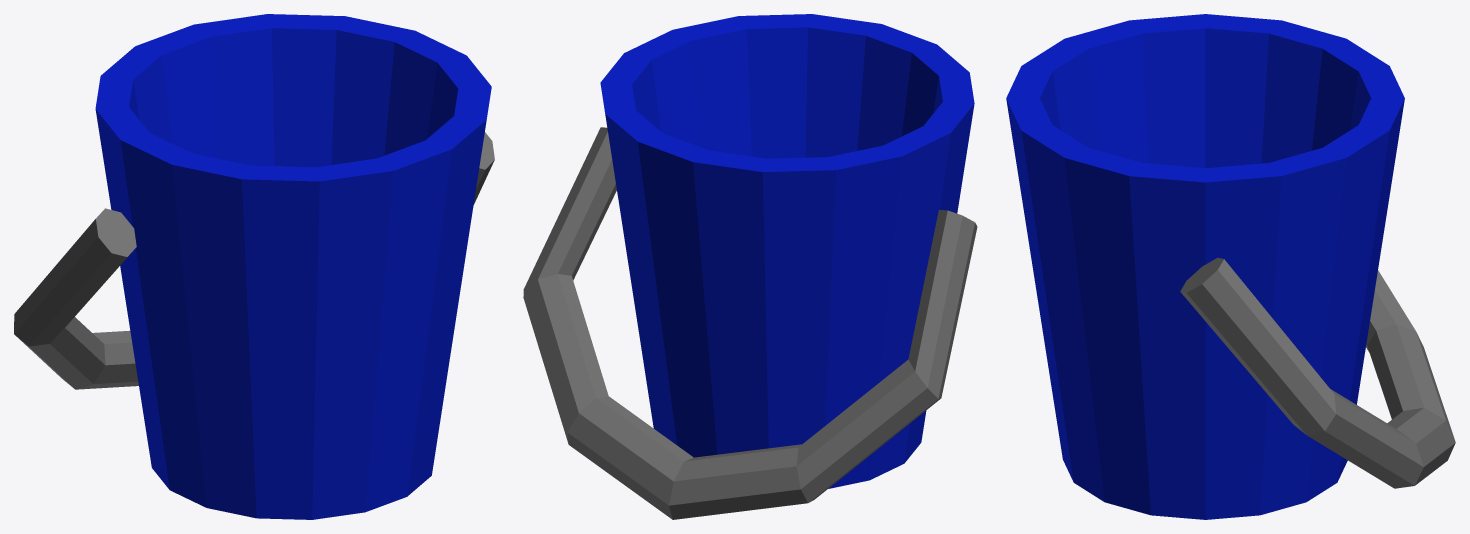
File: BeachToy_3.fbx
3 renders of one model, left to right at view 1: azimuth 30°, elevation 25°; view 2: azimuth 150°, elevation 25°; view 3: azimuth 270°, elevation 25°, orthographic. The views are drawn at different scales.
Visible parts, largest first — view 1: Bucket, Handle; view 2: Bucket, Handle; view 3: Bucket, Handle.
Boxes of the visible parts, x1=… form: Bucket: x1=95, y1=14, x2=491, y2=519; Handle: x1=14, y1=132, x2=494, y2=389; Bucket: x1=600, y1=14, x2=974, y2=488; Handle: x1=523, y1=127, x2=977, y2=519; Bucket: x1=1006, y1=14, x2=1404, y2=519; Handle: x1=1180, y1=257, x2=1455, y2=488.
Bounding box in the file's own units: 48.83 × 38.94 × 43.36.
